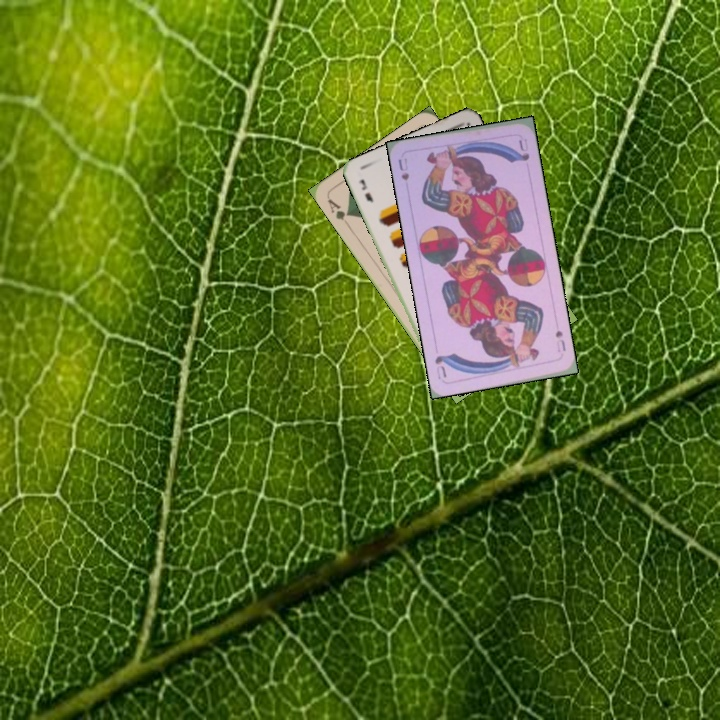E7: (354, 175, 376, 205)
GA: (323, 195, 353, 229)
SU: (394, 154, 412, 183), (551, 326, 568, 355)
